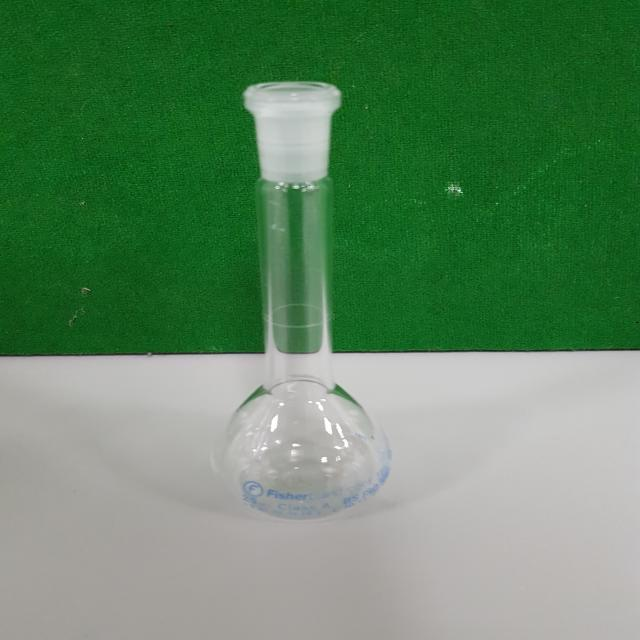Volumetric flask: (209, 75, 395, 514)
